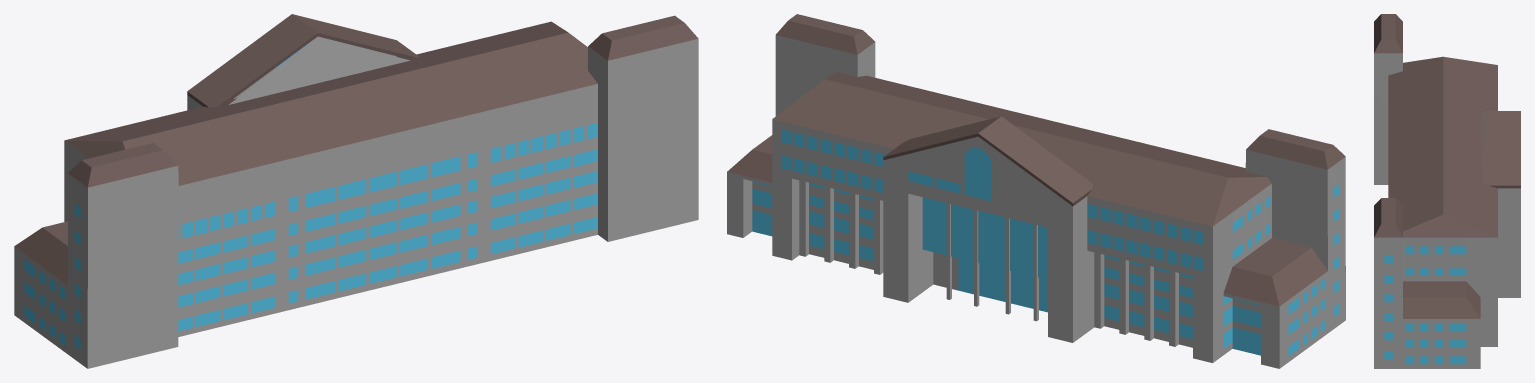
File: HwaDo.glb
The picture shows the model from 3 angles, left to right: view 1: azimuth 30°, elevation 25°; view 2: azimuth 150°, elevation 25°; view 3: azimuth 270°, elevation 25°; orthographic projection. The views are drawn at different scales.
Visible parts, largest first — view 1: Main, Roof, Window; view 2: Main, Roof, Window; view 3: Roof, Main, Window.
Boxes of the visible parts, left/top/right/bottom form: Main: left=14, top=36, right=698, bottom=368; Roof: left=14, top=14, right=698, bottom=284; Window: left=24, top=44, right=597, bottom=349; Main: left=727, top=35, right=1345, bottom=368; Roof: left=727, top=14, right=1345, bottom=306; Window: left=752, top=129, right=1339, bottom=356; Roof: left=1374, top=14, right=1520, bottom=318; Main: left=1374, top=53, right=1520, bottom=368; Window: left=1384, top=246, right=1466, bottom=364.
Bounding box in the file's own units: 88.9 × 28.7 × 25.5.
